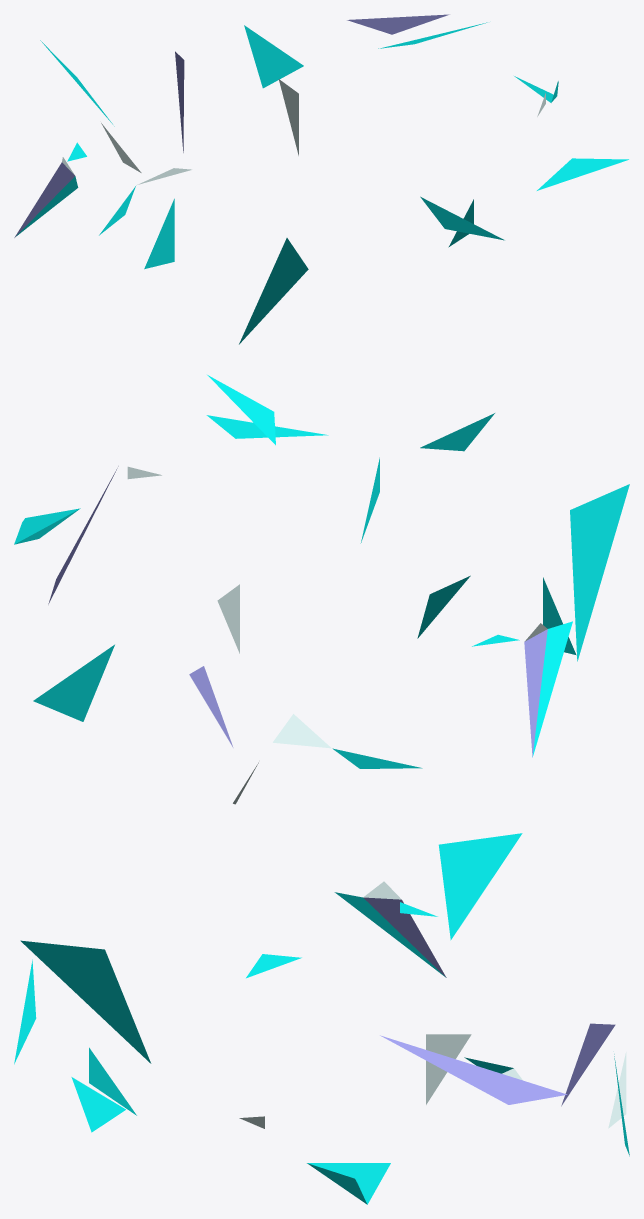
The model's file is volt_effects.glb.
The picture shows the model from 3 angles, top to bottom: view 1: azimuth 30°, elevation 25°; view 2: azimuth 150°, elevation 25°; view 3: azimuth 270°, elevation 25°; orthographic projection. The views are drawn at different scales.
Visible parts, largest first — view 1: imagetostl_mesh9, imagetostl_mesh14, imagetostl_mesh10, imagetostl_mesh4, imagetostl_mesh13, imagetostl_mesh3, imagetostl_mesh17, imagetostl_mesh8, imagetostl_mesh0, imagetostl_mesh16; view 2: imagetostl_mesh9, imagetostl_mesh14, imagetostl_mesh16, imagetostl_mesh17, imagetostl_mesh6, imagetostl_mesh4, imagetostl_mesh3, imagetostl_mesh2, imagetostl_mesh7, imagetostl_mesh8, imagetostl_mesh0, imagetostl_mesh21 (+2 smaller); view 3: imagetostl_mesh9, imagetostl_mesh7, imagetostl_mesh13, imagetostl_mesh17, imagetostl_mesh8, imagetostl_mesh20, imagetostl_mesh4, imagetostl_mesh0, imagetostl_mesh16, imagetostl_mesh12, imagetostl_mesh3, imagetostl_mesh11 (+2 smaller).
Part boxes in pixels (left/top/right/bottom): imagetostl_mesh9: left=239, top=238, right=308, bottom=344; imagetostl_mesh14: left=244, top=25, right=303, bottom=88; imagetostl_mesh10: left=144, top=198, right=174, bottom=269; imagetostl_mesh4: left=537, top=158, right=628, bottom=190; imagetostl_mesh13: left=347, top=14, right=449, bottom=34; imagetostl_mesh3: left=420, top=196, right=504, bottom=240; imagetostl_mesh17: left=14, top=162, right=74, bottom=237; imagetostl_mesh8: left=278, top=79, right=298, bottom=155; imagetostl_mesh0: left=175, top=51, right=184, bottom=152; imagetostl_mesh16: left=16, top=176, right=78, bottom=236; imagetostl_mesh9: left=570, top=484, right=629, bottom=661; imagetostl_mesh14: left=33, top=644, right=114, bottom=721; imagetostl_mesh16: left=532, top=621, right=572, bottom=756; imagetostl_mesh17: left=524, top=629, right=547, bottom=757; imagetostl_mesh6: left=207, top=375, right=275, bottom=445; imagetostl_mesh4: left=206, top=415, right=328, bottom=438; imagetostl_mesh3: left=420, top=413, right=494, bottom=451; imagetostl_mesh2: left=273, top=714, right=331, bottom=748; imagetostl_mesh7: left=417, top=575, right=470, bottom=638; imagetostl_mesh8: left=217, top=584, right=239, bottom=653; imagetostl_mesh0: left=189, top=666, right=233, bottom=747; imagetostl_mesh21: left=14, top=508, right=80, bottom=544; imagetostl_mesh9: left=20, top=940, right=151, bottom=1063; imagetostl_mesh7: left=438, top=833, right=522, bottom=940; imagetostl_mesh13: left=380, top=1035, right=567, bottom=1104; imagetostl_mesh17: left=363, top=897, right=446, bottom=977; imagetostl_mesh8: left=426, top=1034, right=471, bottom=1104; imagetostl_mesh20: left=307, top=1163, right=390, bottom=1204; imagetostl_mesh4: left=71, top=1077, right=125, bottom=1132; imagetostl_mesh0: left=561, top=1023, right=615, bottom=1106; imagetostl_mesh16: left=334, top=892, right=445, bottom=977; imagetostl_mesh12: left=89, top=1047, right=136, bottom=1115; imagetostl_mesh3: left=14, top=959, right=36, bottom=1064; imagetostl_mesh11: left=608, top=1052, right=626, bottom=1128.
Bounding box in the file's own units: 23.58 × 10.03 × 22.26.
